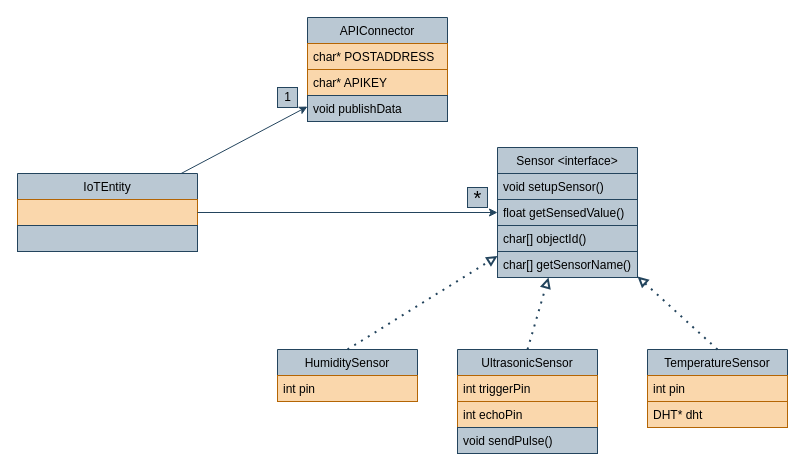
The diagram is 805 pixels wide and 474 high, and some of its shapes have lost their labels. Each missing label, with the centre of its shape:
"int sensorsQuantity" belongs at point (107, 212).
"void publishSensorsValue()" belongs at point (107, 238).
